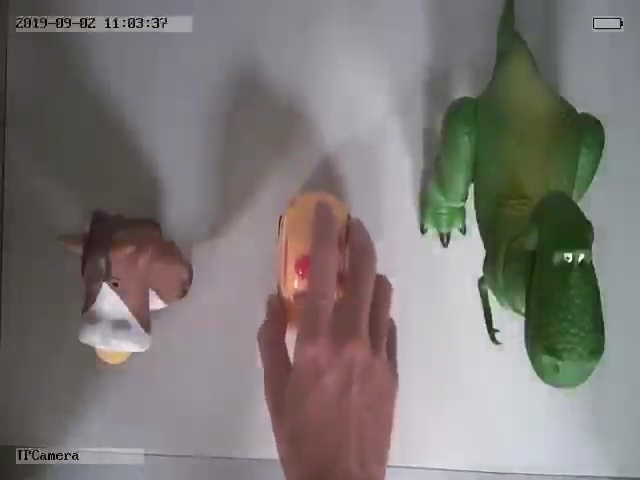horse: (60, 208, 193, 367)
rex: (421, 10, 607, 390)
